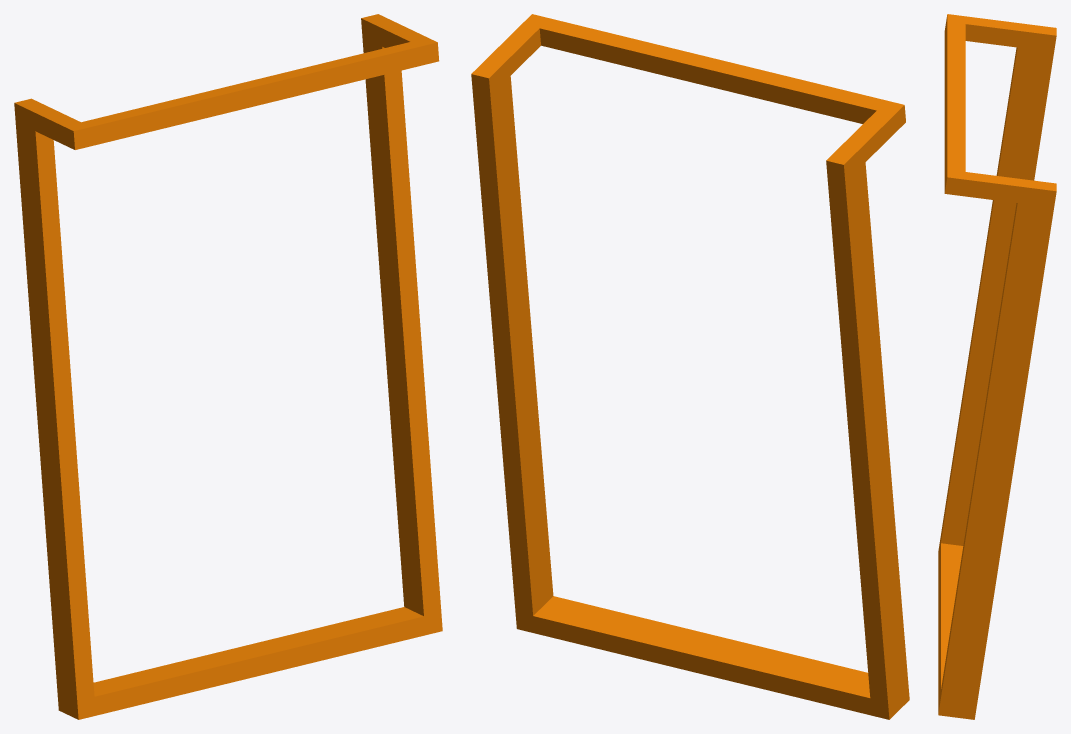
The picture shows the model from 3 angles, left to right: view 1: azimuth 30°, elevation 25°; view 2: azimuth 150°, elevation 25°; view 3: azimuth 270°, elevation 25°; orthographic projection. The views are drawn at different scales.
Parts seen in each view (by area): view 1: Part 5; view 2: Part 5; view 3: Part 5.
Boxes of the visible parts, x1,y1,x2,y2 form: Part 5: (14, 14, 442, 719); Part 5: (471, 14, 909, 719); Part 5: (938, 14, 1056, 719).
Bounding box in the file's own units: 0.5334 × 0.8261 × 0.1634.
